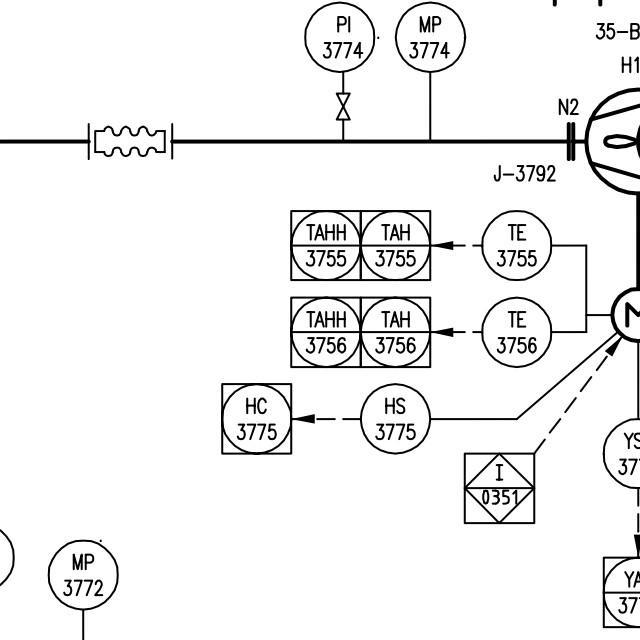EJ: (82, 119, 180, 165)
GV: (332, 85, 354, 124)
